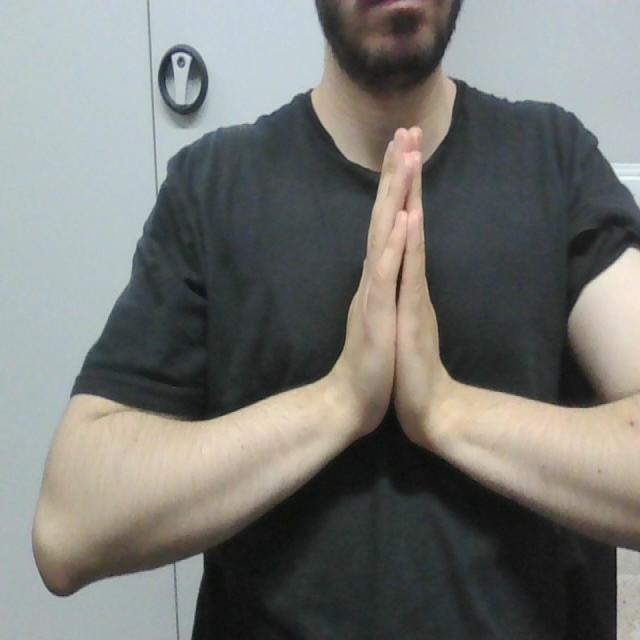Ozur-Dilemek: (333, 114, 458, 470)
